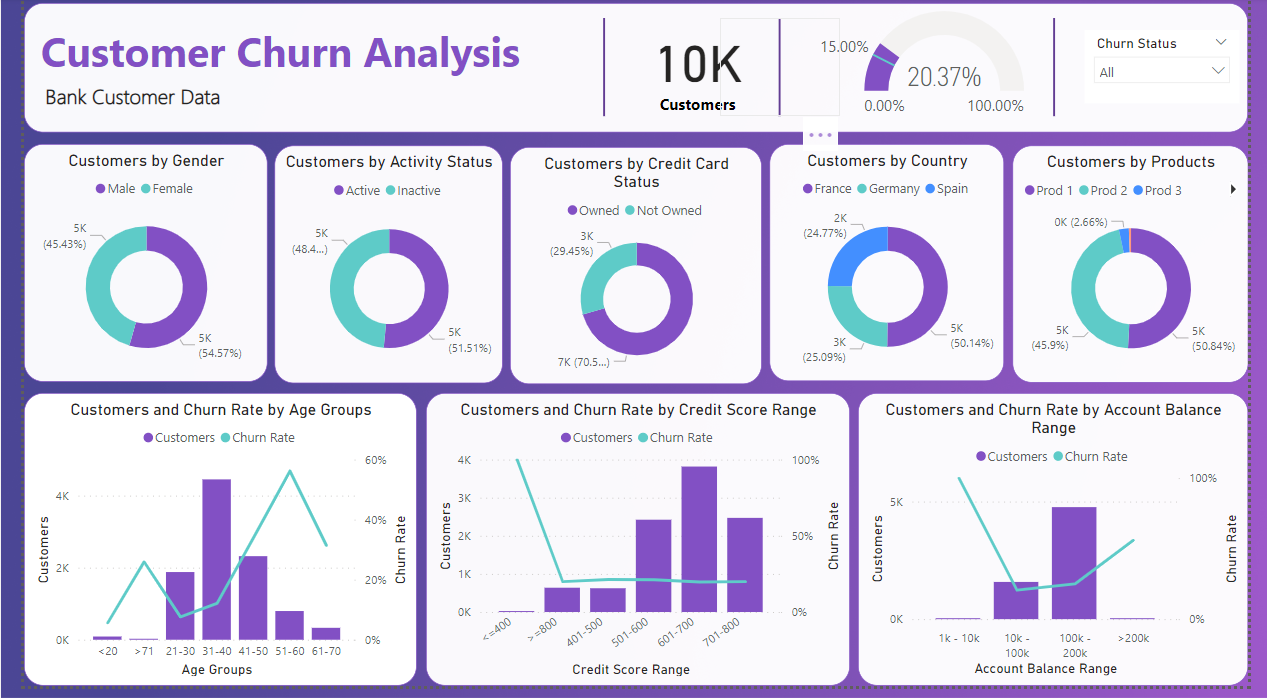

This screenshot's page, from the dashboard's own definition file:
{"tool":"powerbi","page":{"name":"Page 1","canvas":[1280,720],"ordinal":0},"visuals":[{"type":"shape","box":[0,5.6,1279.7,135.1],"z":0},{"type":"card","fields":{"Values":["Customer Data.Customers"]},"box":[595.4,11.3,216.1,124.9],"z":1000},{"type":"donutChart","fields":{"Category":["Customer Data.Gender"],"Y":["Customer Data.Customers"]},"box":[0,154.2,254.4,248.7],"z":2000},{"type":"donutChart","fields":{"Y":["Customer Data.Customers"],"Category":["Customer Data.Activity Status"]},"box":[262.3,155.3,238.6,248.7],"z":3000},{"type":"donutChart","fields":{"Y":["Customer Data.Customers"],"Category":["Customer Data.Credit Card Status"]},"box":[508.7,156.5,263.4,248],"z":4000},{"type":"donutChart","fields":{"Y":["Customer Data.Customers"],"Category":["Customer Data.Country"]},"box":[780,154.2,245.4,248],"z":5000},{"type":"donutChart","fields":{"Y":["Customer Data.Customers"],"Category":["Customer Data.Products"]},"box":[1033.3,155.3,246.5,248],"z":6000},{"type":"lineClusteredColumnComboChart","fields":{"Y":["Customer Data.Customers"],"Y2":["Customer Data.Churn Rate"],"Category":["Age groups ID.Age Groups"]},"box":[0,414.2,410.8,306.1],"z":7000},{"type":"lineClusteredColumnComboChart","fields":{"Y":["Customer Data.Customers"],"Y2":["Customer Data.Churn Rate"],"Category":["Credit Score ID.Credit Score Range"]},"box":[421,414.2,443.5,306.1],"z":8000},{"type":"lineClusteredColumnComboChart","fields":{"Y":["Customer Data.Customers"],"Y2":["Customer Data.Churn Rate"],"Category":["Account Balance ID.Account Balance Range"]},"box":[872.3,414.2,407.4,306.1],"z":9000},{"type":"slicer","fields":{"Values":["Customer Data.Churn Status"]},"box":[1108.7,34.9,162.1,76.5],"z":10000},{"type":"gauge","fields":{"Y":["Customer Data.Churn Rate"],"MaxValue":["Max(Customer Data.Max Churn rate)"],"MinValue":["Min(Customer Data.Min Churn Rate)"],"TargetValue":["Avg(Customer Data.Target Churn Rate)"]},"box":[791.3,10.1,294.9,124.9],"z":11000},{"type":"textbox","box":[12.4,22.5,565,79.9],"z":12000},{"type":"textbox","box":[17,83,257.8,41.6],"z":13000},{"type":"shape","box":[544.8,22.5,124.9,102.4],"z":13001},{"type":"shape","box":[728.2,21.4,124.9,102.4],"z":13002},{"type":"shape","box":[1014.1,21.4,124.9,102.4],"z":13003}]}

Visuals, with their boxes in screenshot pixels (x1, y1, x2, y2), scaled from the page's 1280x720 canvas onto the 1267x698 screenshot:
shape: detection(0, 5, 1266, 136)
card - Customer Data.Customers: detection(589, 11, 803, 132)
donutChart - Customer Data.Gender x Customer Data.Customers: detection(0, 149, 252, 391)
donutChart - Customer Data.Customers x Customer Data.Activity Status: detection(260, 151, 496, 392)
donutChart - Customer Data.Customers x Customer Data.Credit Card Status: detection(504, 152, 764, 392)
donutChart - Customer Data.Customers x Customer Data.Country: detection(772, 149, 1015, 390)
donutChart - Customer Data.Customers x Customer Data.Products: detection(1023, 151, 1266, 391)
lineClusteredColumnComboChart - Customer Data.Customers x Customer Data.Churn Rate: detection(0, 402, 407, 697)
lineClusteredColumnComboChart - Customer Data.Customers x Customer Data.Churn Rate: detection(417, 402, 856, 697)
lineClusteredColumnComboChart - Customer Data.Customers x Customer Data.Churn Rate: detection(863, 402, 1266, 697)
slicer - Customer Data.Churn Status: detection(1097, 34, 1258, 108)
gauge - Customer Data.Churn Rate x Max(Customer Data.Max Churn rate): detection(783, 10, 1075, 131)
textbox: detection(12, 22, 572, 99)
textbox: detection(17, 80, 272, 121)
shape: detection(539, 22, 663, 121)
shape: detection(721, 21, 844, 120)
shape: detection(1004, 21, 1127, 120)
